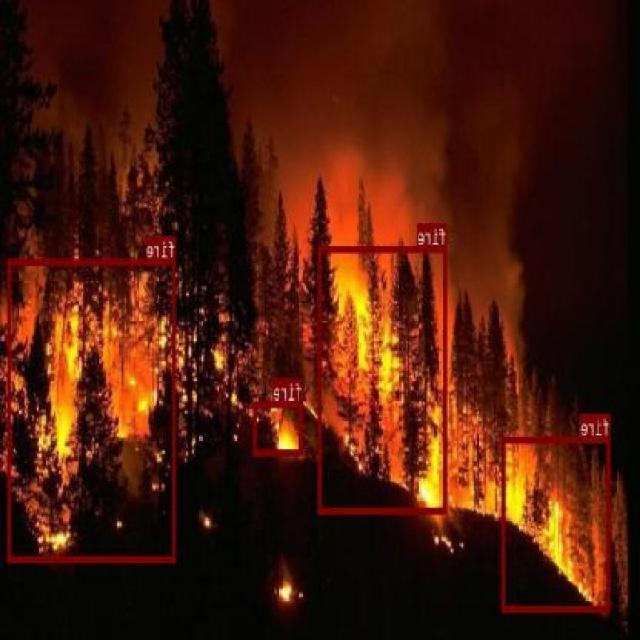Fire: (8, 258, 176, 560), (318, 245, 448, 512), (502, 437, 612, 611), (254, 400, 304, 456)
